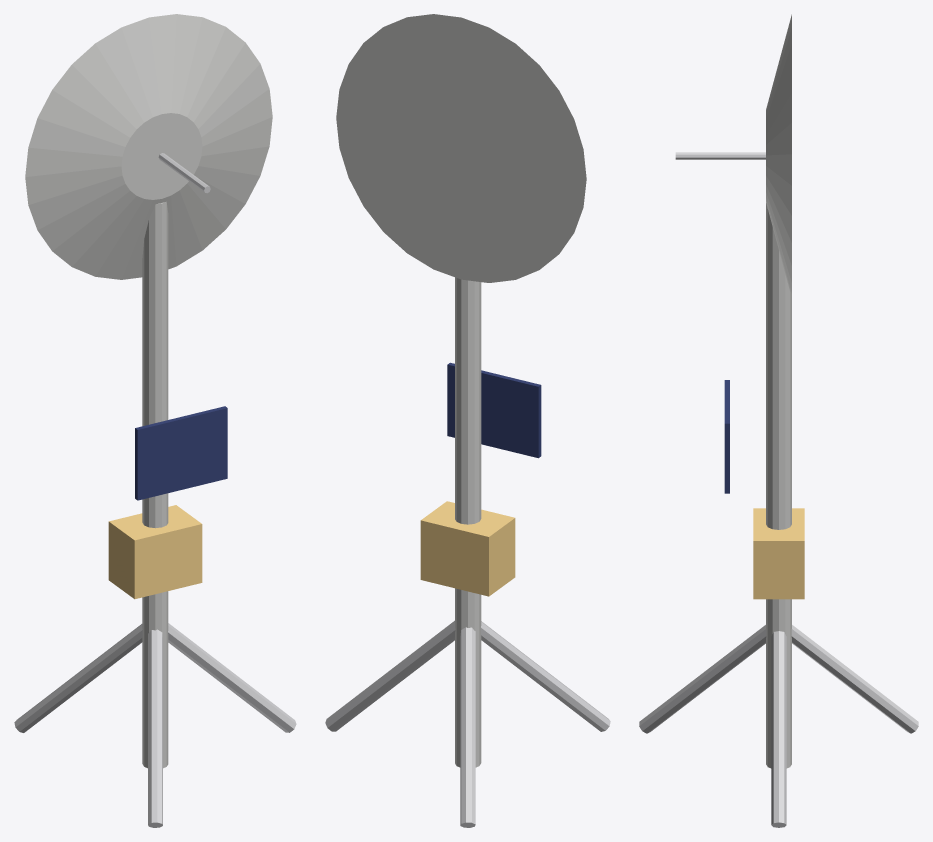
Rendered from relay.glb.
The picture shows the model from 3 angles, left to right: view 1: azimuth 30°, elevation 25°; view 2: azimuth 150°, elevation 25°; view 3: azimuth 270°, elevation 25°; orthographic projection.
Parts seen in each view (by area): view 1: dish, mast; view 2: dish, mast; view 3: mast, dish.
Part boxes in pixels (bbox=[...]): dish: bbox=[25, 14, 272, 279]; mast: bbox=[14, 202, 296, 827]; dish: bbox=[336, 14, 586, 282]; mast: bbox=[325, 277, 610, 827]; mast: bbox=[639, 203, 918, 827]; dish: bbox=[675, 14, 791, 297].
Size of the model in its own units: 1.17 by 3.15 by 1.08.
